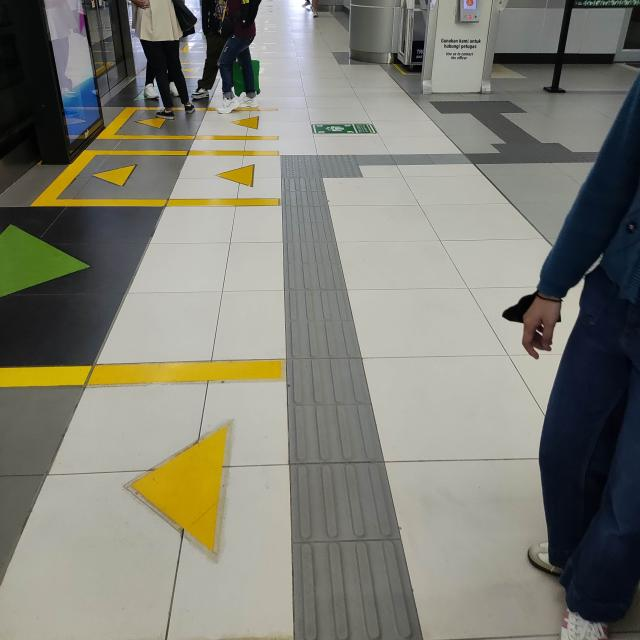kanan: (256, 130, 430, 202)
